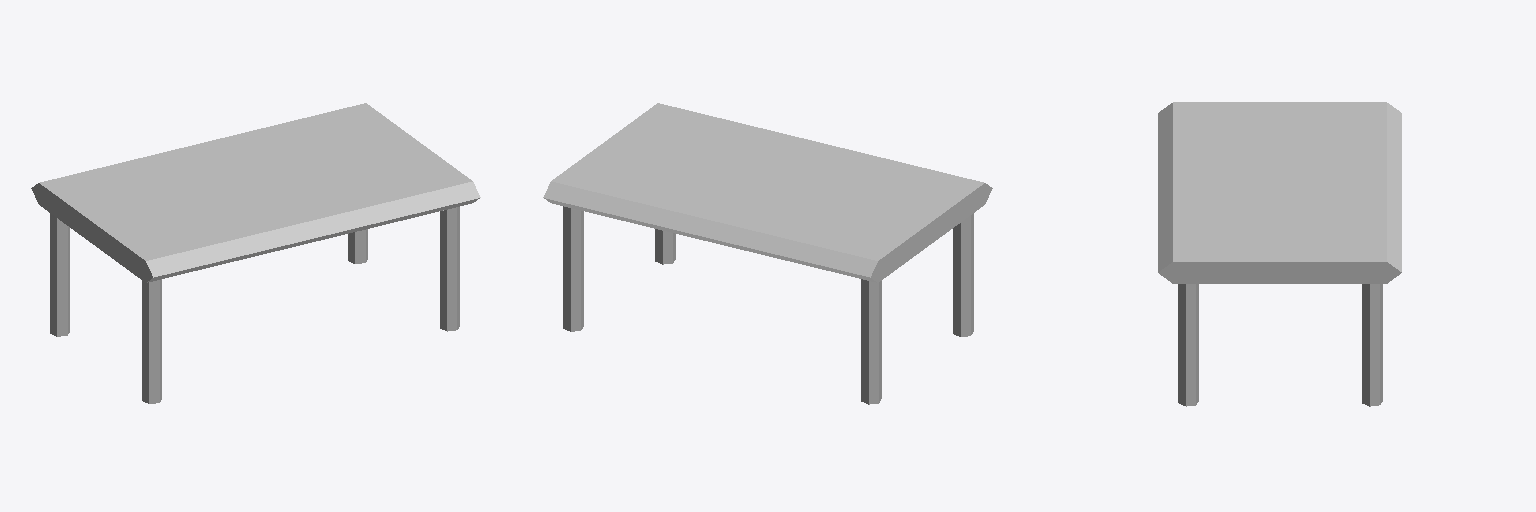
Rendered from tabl.obj.
3 renders of one model, left to right at view 1: azimuth 30°, elevation 25°; view 2: azimuth 150°, elevation 25°; view 3: azimuth 270°, elevation 25°, orthographic.
Visible parts, largest first — view 1: Cube; view 2: Cube; view 3: Cube.
Part boxes in pixels (x1,y1,x2,y2): Cube: (31,103,480,403); Cube: (543,103,992,404); Cube: (1158,102,1401,406).
Size of the model in its own units: 3 by 1.29 by 1.94.